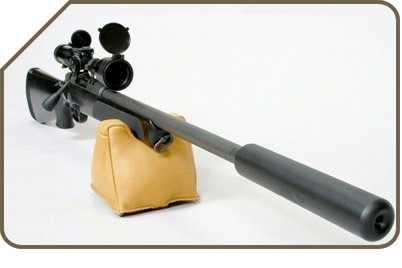heavyweapon: (18, 22, 398, 250)
